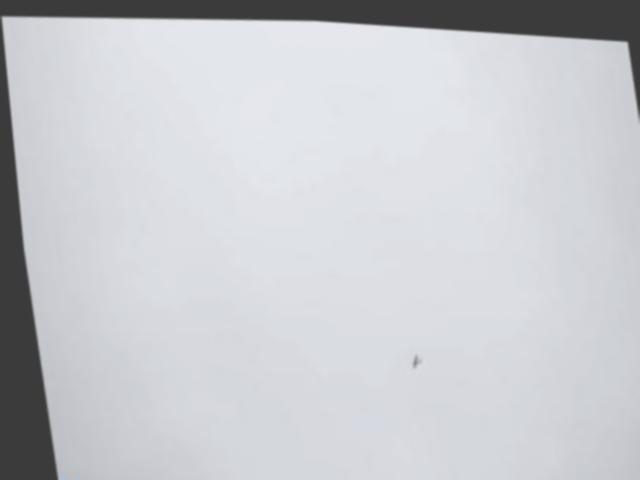uav: (395, 343, 424, 369)
